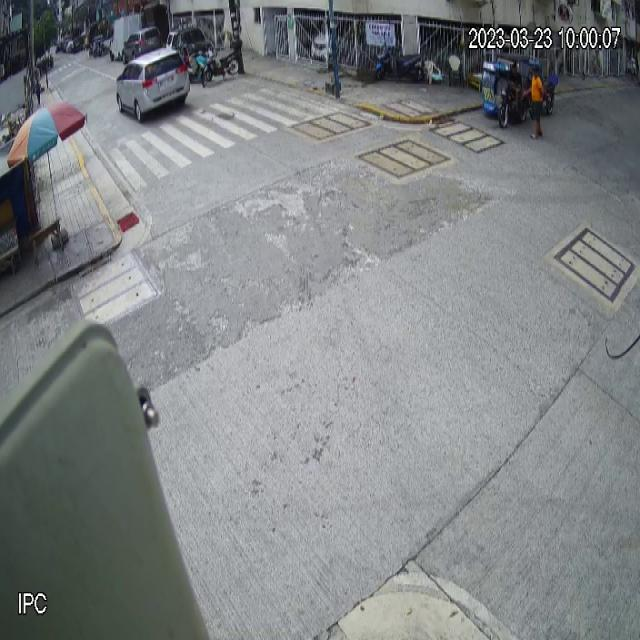Car: (116, 47, 190, 122)
